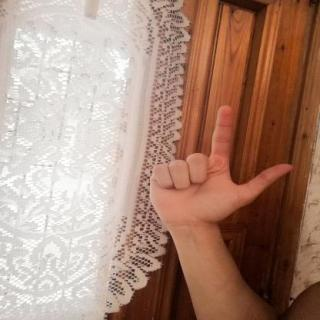LAAM: (134, 98, 304, 234)
